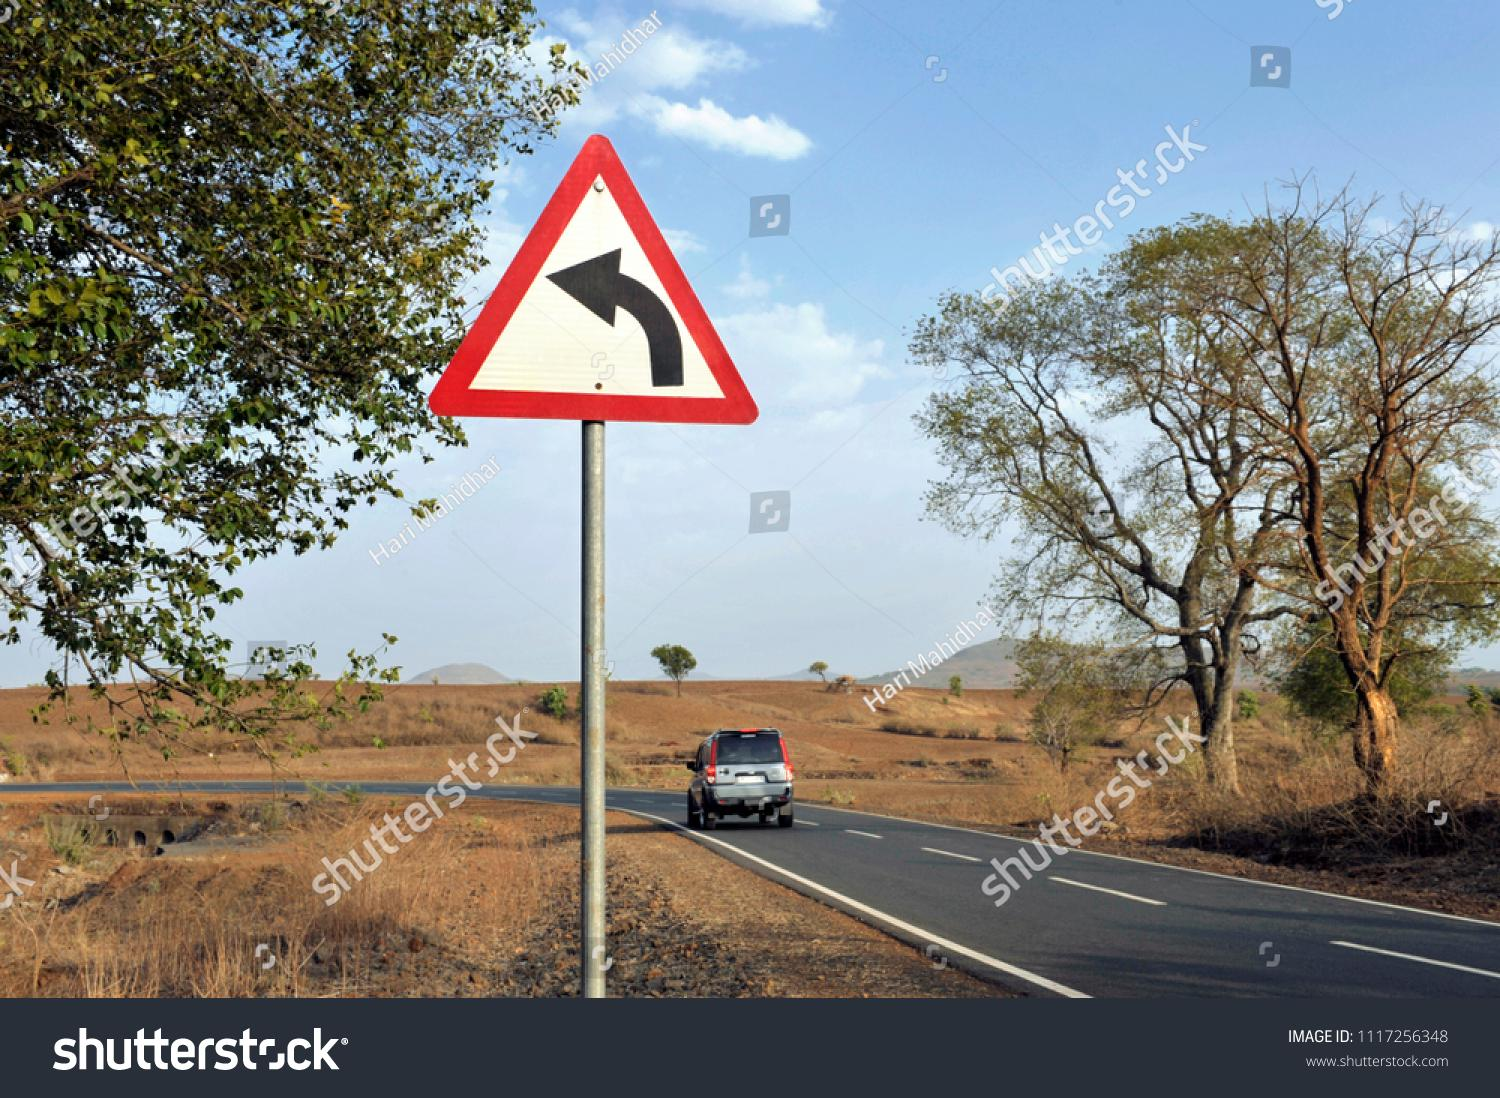Left hand curve: (448, 130, 804, 463)
